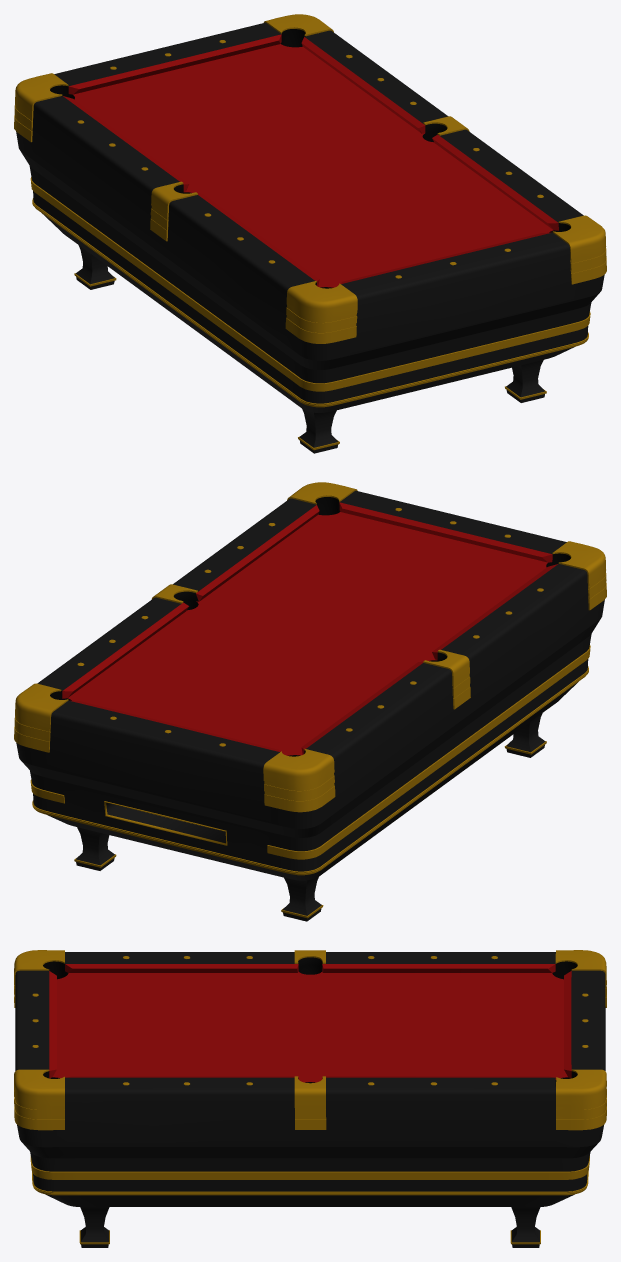
File: PoolTable.fbx
The picture shows the model from 3 angles, top to bottom: view 1: azimuth 30°, elevation 25°; view 2: azimuth 150°, elevation 25°; view 3: azimuth 270°, elevation 25°; orthographic projection. The views are drawn at different scales.
Visible parts, largest first — view 1: Table; view 2: Table; view 3: Table.
Part boxes in pixels (box(x1,y1,x2,y2)): Table: box(14, 14, 606, 453); Table: box(14, 482, 606, 921); Table: box(14, 950, 606, 1247).
Size of the model in its own units: 1.7 by 2.98 by 0.965.
